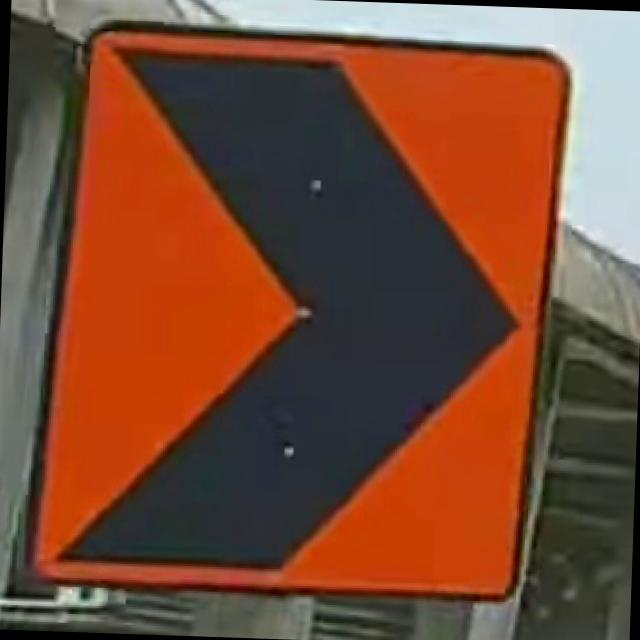curveright_sign: (24, 18, 574, 606)
